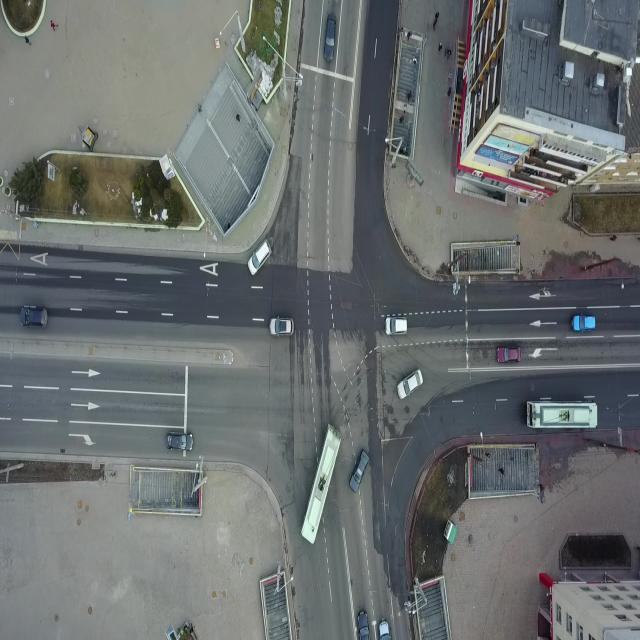UAI: (247, 238, 272, 276), (349, 449, 370, 493), (397, 368, 423, 400), (323, 13, 337, 62), (20, 307, 49, 328), (165, 431, 194, 451), (269, 315, 294, 337), (572, 312, 597, 334), (496, 345, 522, 364), (385, 316, 408, 335)
car: (300, 423, 342, 546), (526, 401, 598, 431)
